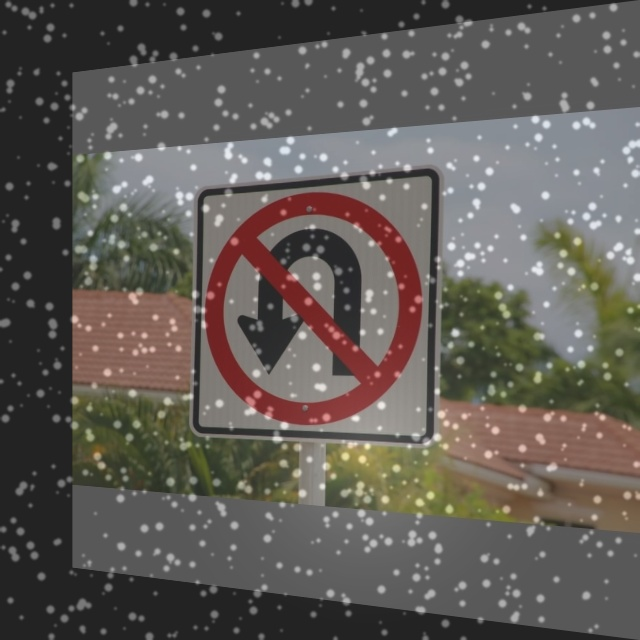U_Turn_Prohibited: (204, 178, 430, 435)
